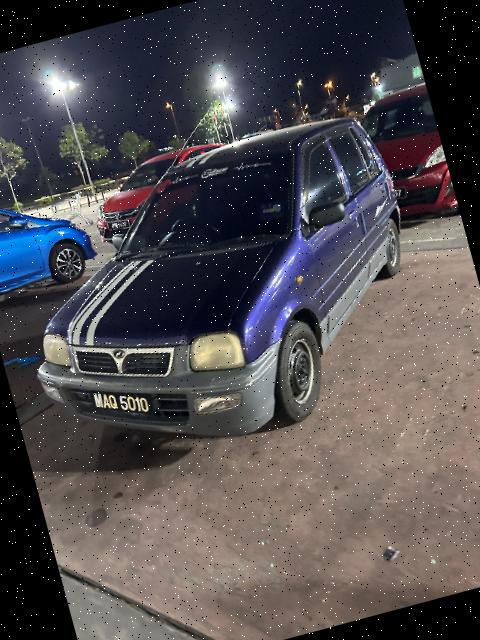License_Plate: (91, 379, 157, 431), (106, 215, 134, 234)
car: (1, 99, 447, 489)
